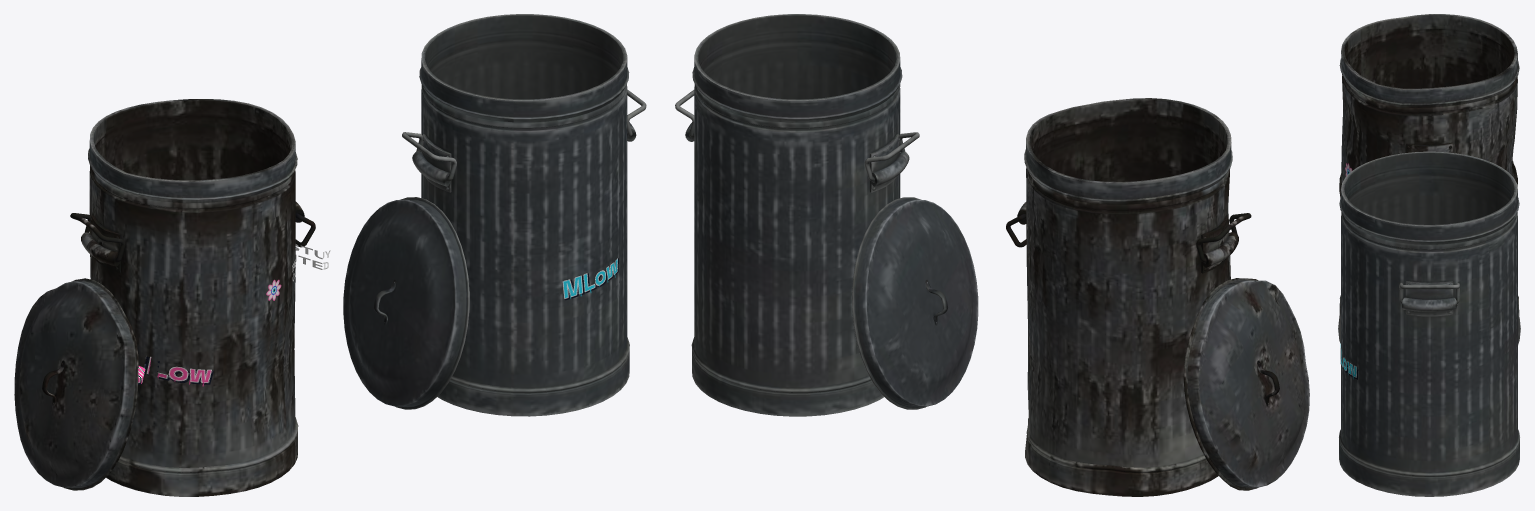
Rendered from nyb_heat_can.glb.
3 renders of one model, left to right at view 1: azimuth 30°, elevation 25°; view 2: azimuth 150°, elevation 25°; view 3: azimuth 270°, elevation 25°, orthographic. The views are drawn at different scales.
Parts seen in each view (by area): view 1: metal_trash_can_handle_left, stk_tag_mlow.png, stk_tag_mlow_cyan.png; view 2: metal_trash_can_handle_left; view 3: metal_trash_can_handle_left, stk_tag_mlow_cyan.png.
Part boxes in pixels (x1,y1,x2,y2): metal_trash_can_handle_left: (14,14,646,496); stk_tag_mlow.png: (138,356,213,386); stk_tag_mlow_cyan.png: (562,258,618,300); metal_trash_can_handle_left: (675,14,1309,496); metal_trash_can_handle_left: (1338,14,1520,496); stk_tag_mlow_cyan.png: (1340,343,1358,379).
Bounding box in the file's own units: 1.78 × 0.9062 × 0.5563.
6 materials, 6 textured.
